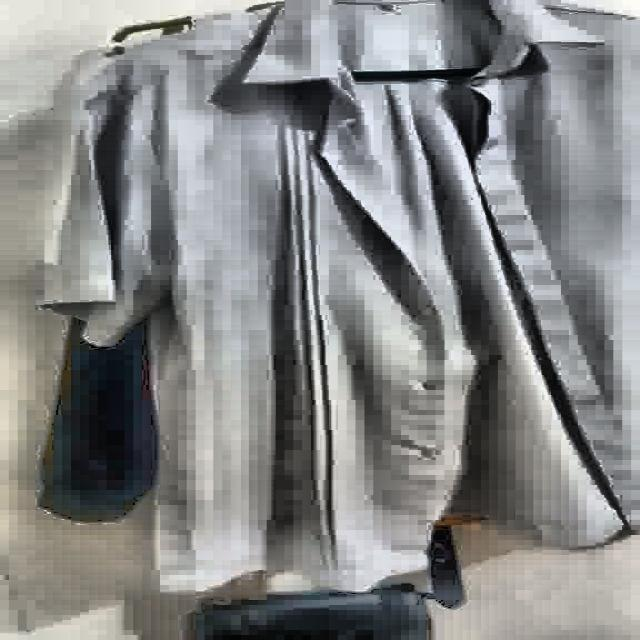clothes: (42, 0, 640, 588)
